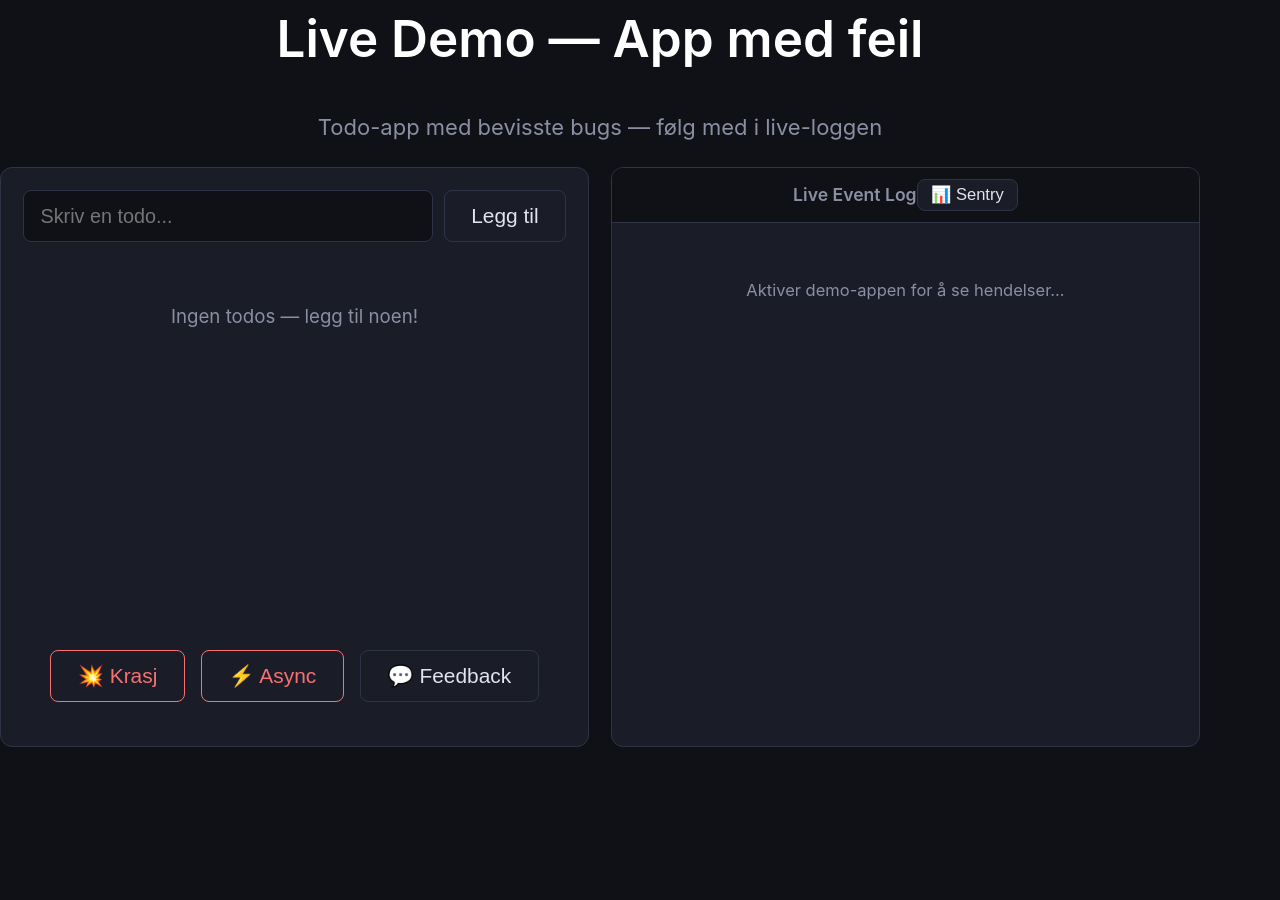
Test case: DemoAppSlide › adds a todo
In the field with placeholder "Skriv en todo...": (228, 216) [23,190,433,242], type "Kjøpe melk"
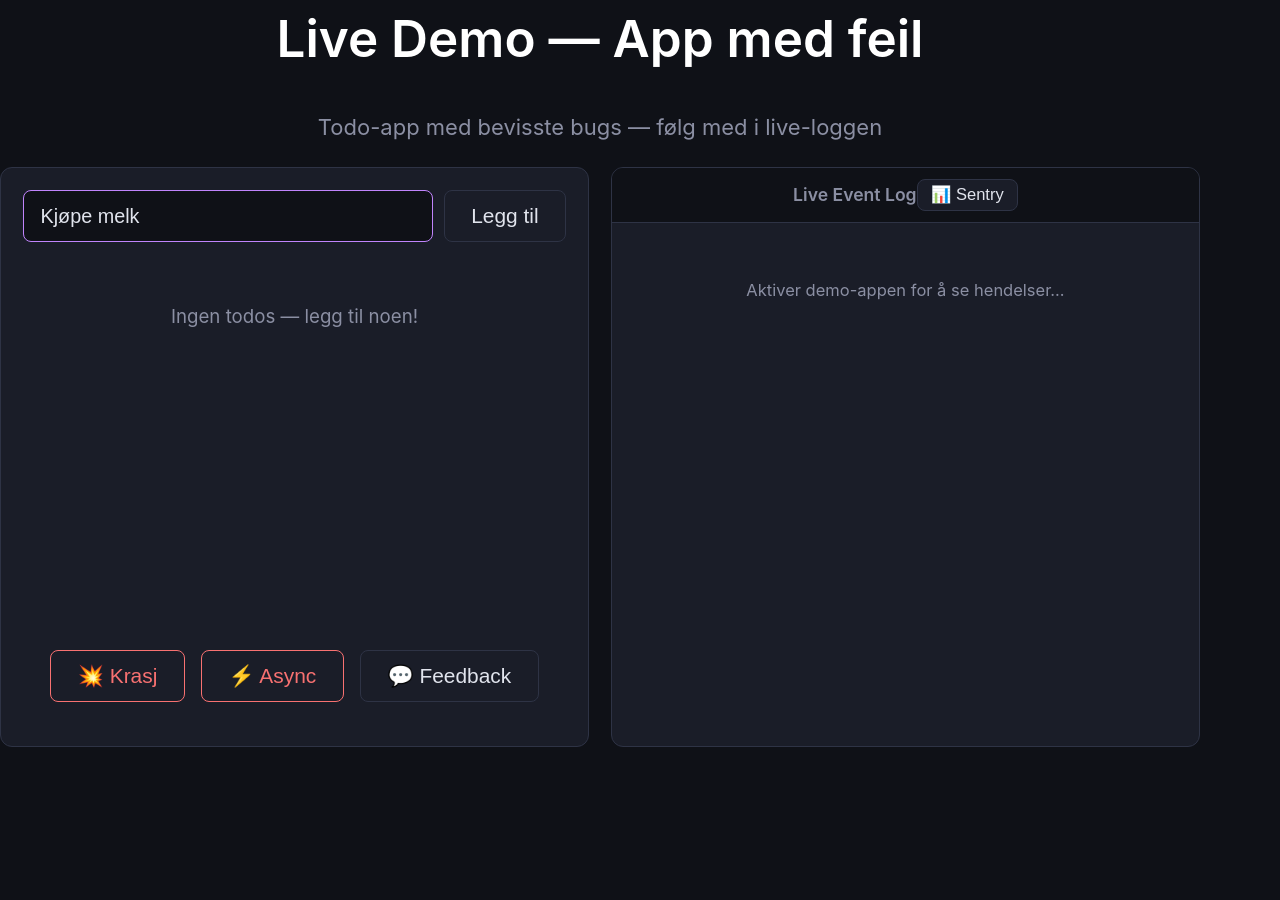
Click the button "Legg til": (505, 216) [444,190,566,242]
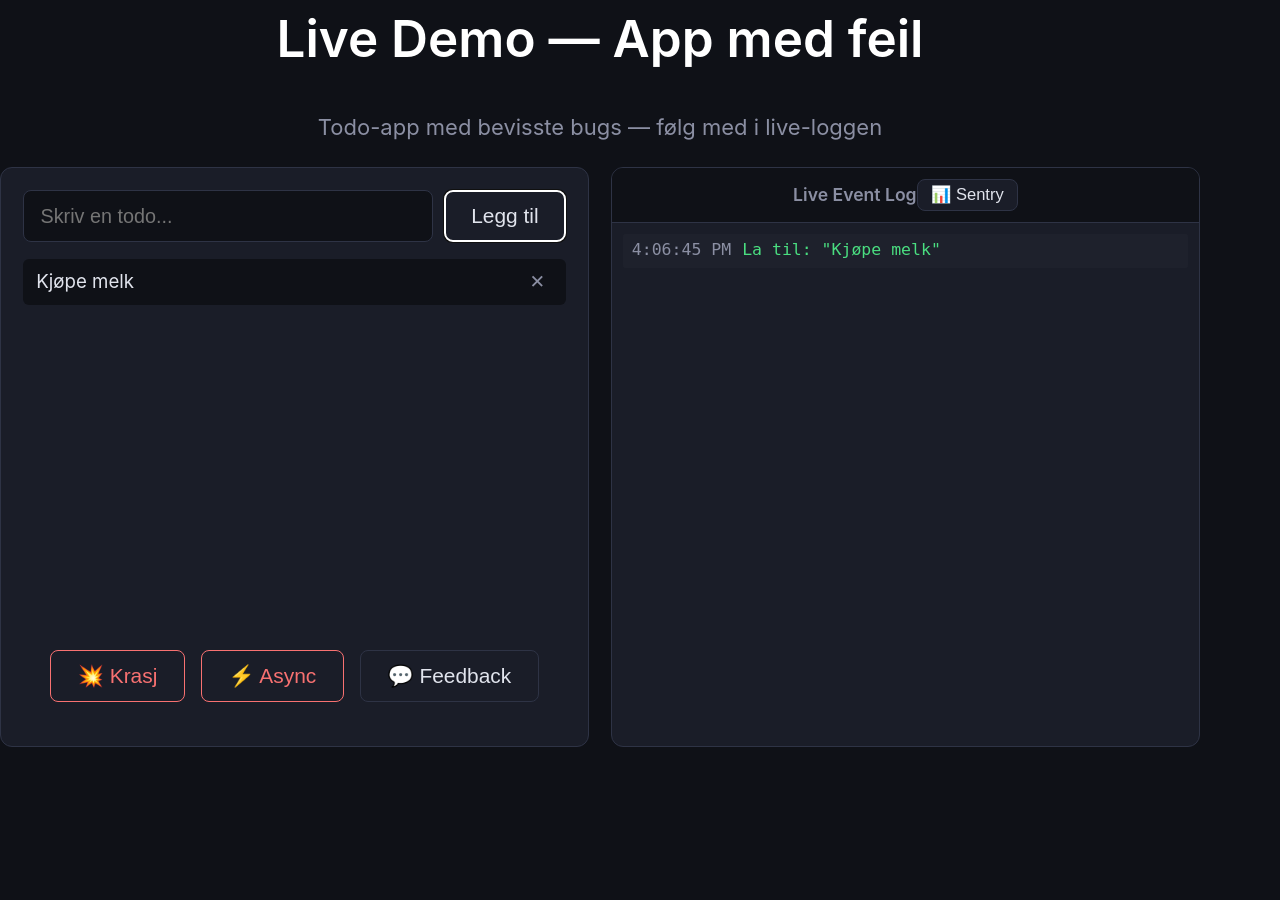
Expected: the text "Kjøpe melk" is shown, [36,268,134,296]
